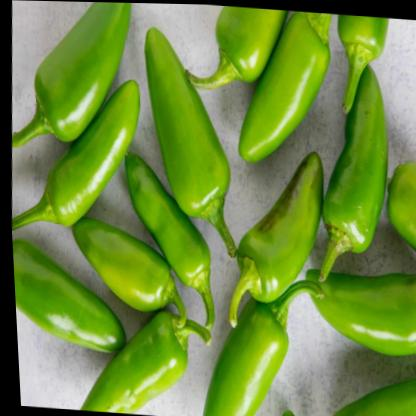--: (132, 23, 248, 266), (3, 63, 147, 247), (210, 141, 334, 336), (298, 54, 400, 286), (66, 302, 216, 416)
